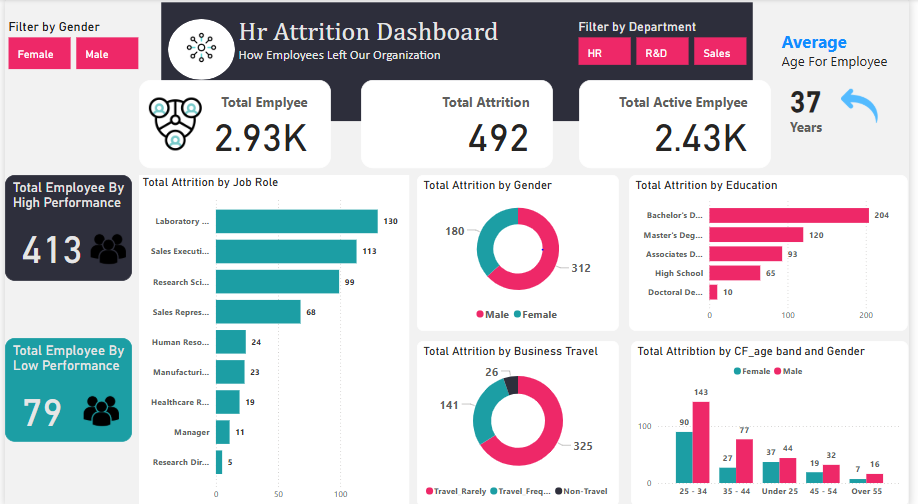

The dashboard page shown, as its layout file describes it:
{"tool":"powerbi","page":{"name":"Page 1","canvas":[1280,720],"ordinal":0},"visuals":[{"type":"barChart","fields":{"Category":["Sheet1.Job Role"],"Y":["Table.Total_Attribtion"]},"box":[189.9,249.4,382.7,470.6],"z":0},{"type":"barChart","fields":{"Y":["Table.Total_Attribtion"],"Category":["Sheet1.Education"]},"box":[884.4,249.4,395.4,221.1],"z":1000},{"type":"donutChart","fields":{"Category":["Sheet1.Business Travel"],"Y":["Table.Total_Attribtion"]},"box":[583.9,484.7,286.3,235.3],"z":2000},{"type":"clusteredColumnChart","title":"Total Attribtion by CF_age band and Gender","fields":{"Category":["Sheet1.CF_age band"],"Y":["Table.Total_Attribtion"],"Series":["Sheet1.Gender"]},"box":[887.2,484.7,392.6,235.3],"z":3000},{"type":"donutChart","fields":{"Category":["Sheet1.Gender"],"Y":["Table.Total_Attribtion"]},"box":[583.9,249.4,286.3,221.1],"z":4000},{"type":"cardVisual","fields":{"Data":["Table.Total_Emplyee"]},"box":[189.9,114.8,272.1,124.7],"z":5000},{"type":"image","box":[189.9,134.6,102,85],"z":6000},{"type":"cardVisual","fields":{"Data":["Table.Total_Attribtion"]},"box":[504.6,114.8,272.1,124.7],"z":7000},{"type":"cardVisual","fields":{"Data":["Table.Total_Active"]},"box":[813.5,114.8,272.1,124.7],"z":8000},{"type":"textbox","box":[326,18.4,401.1,80.8],"z":9000},{"type":"shape","box":[231,28.3,95,86.5],"z":10000},{"type":"image","box":[240.9,38.3,75.1,60.9],"z":11000},{"type":"advancedSlicerVisual","title":"Filter by Department","fields":{"Values":["Sheet1.Department"]},"box":[807.9,28.3,249.4,70.9],"z":12000},{"type":"cardVisual","fields":{"Data":["Table.Avg_Age"]},"box":[1095.6,104.9,86.5,92.1],"z":13000},{"type":"textbox","box":[1095.6,38.3,181.4,76.5],"z":14000},{"type":"cardVisual","title":"Total Employee By High Performance","fields":{"Data":["Table.count_hight"]},"box":[0,249.4,180,150.2],"z":15000},{"type":"cardVisual","title":"Total Employee By Low Performance","fields":{"Data":["Table.count_low"]},"box":[0,480.5,180,147.4],"z":16000},{"type":"image","box":[103.5,554.2,66.6,59.5],"z":17000},{"type":"image","box":[113.4,324.6,66.6,59.5],"z":18000},{"type":"advancedSlicerVisual","title":"Filter by Gender","fields":{"Values":["Sheet1.Gender"]},"box":[0,28.3,292,76.5],"z":19000},{"type":"image","box":[1167.9,120.5,86.5,62.4],"z":20000}]}

Visuals, with their boxes in screenshot pixels (x1, y1, x2, y2), scaled from the page's 1280x720 canvas onto the 918x504 screenshot:
barChart - Sheet1.Job Role x Table.Total_Attribtion: rect(136, 175, 411, 503)
barChart - Table.Total_Attribtion x Sheet1.Education: rect(634, 175, 917, 329)
donutChart - Sheet1.Business Travel x Table.Total_Attribtion: rect(419, 339, 624, 503)
"Total Attribtion by CF_age band and Gender" clusteredColumnChart: rect(636, 339, 917, 503)
donutChart - Sheet1.Gender x Table.Total_Attribtion: rect(419, 175, 624, 329)
cardVisual - Table.Total_Emplyee: rect(136, 80, 331, 168)
image: rect(136, 94, 209, 154)
cardVisual - Table.Total_Attribtion: rect(362, 80, 557, 168)
cardVisual - Table.Total_Active: rect(583, 80, 779, 168)
textbox: rect(234, 13, 521, 69)
shape: rect(166, 20, 234, 80)
image: rect(173, 27, 227, 69)
"Filter by Department" advancedSlicerVisual: rect(579, 20, 758, 69)
cardVisual - Table.Avg_Age: rect(786, 73, 848, 138)
textbox: rect(786, 27, 916, 80)
"Total Employee By High Performance" cardVisual: rect(0, 175, 129, 280)
"Total Employee By Low Performance" cardVisual: rect(0, 336, 129, 440)
image: rect(74, 388, 122, 430)
image: rect(81, 227, 129, 269)
"Filter by Gender" advancedSlicerVisual: rect(0, 20, 209, 73)
image: rect(838, 84, 900, 128)
